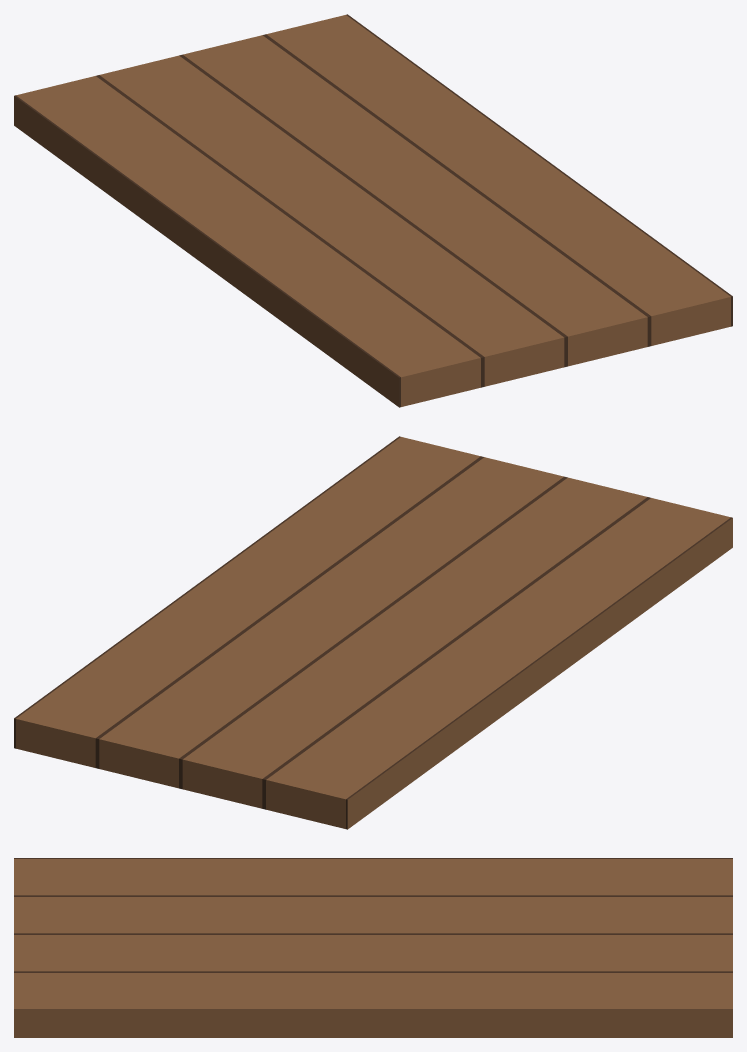
File: Floor_16.fbx
3 renders of one model, top to bottom at view 1: azimuth 30°, elevation 25°; view 2: azimuth 150°, elevation 25°; view 3: azimuth 270°, elevation 25°, orthographic. The views are drawn at different scales.
Visible parts, largest first — view 1: Floor_16; view 2: Floor_16; view 3: Floor_16.
Part boxes in pixels (x1,y1,x2,y2): Floor_16: [14, 14, 732, 407]; Floor_16: [14, 436, 732, 829]; Floor_16: [14, 858, 732, 1037].
Size of the model in its own units: 130 by 11.07 by 259.
